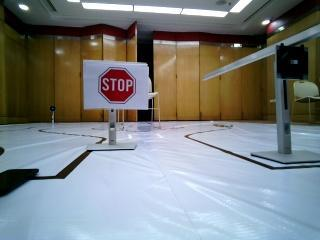stop: (90, 65, 144, 104)
